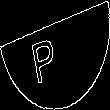P_N: (39, 26, 71, 84)
